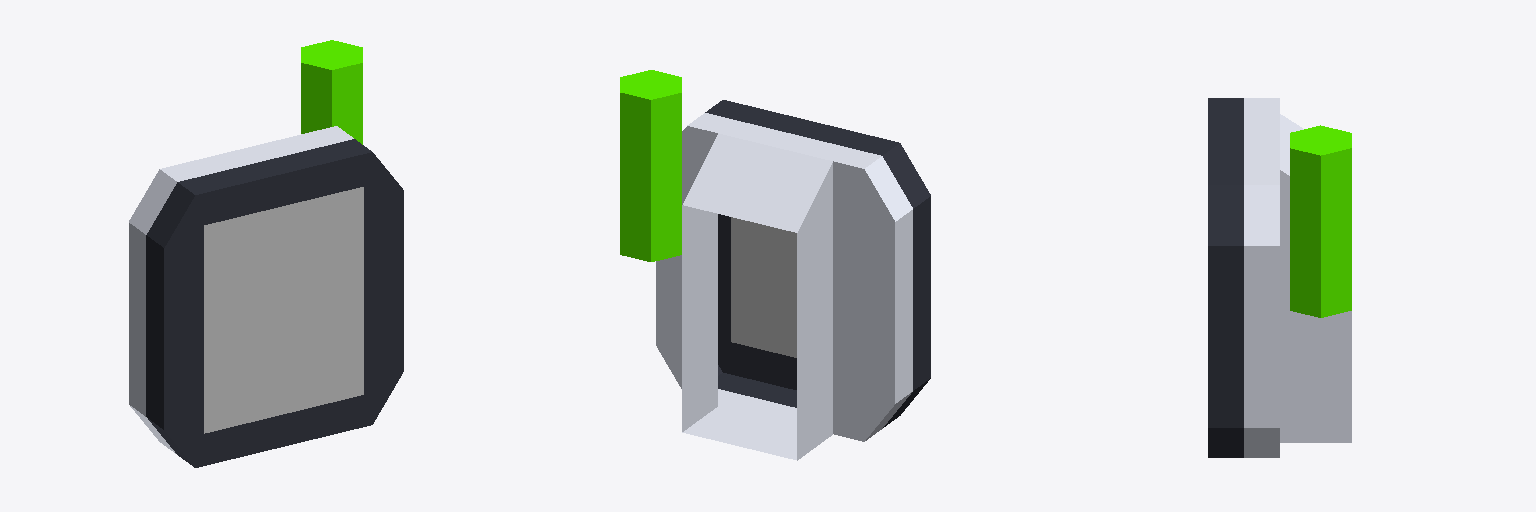
The model's file is cell_screen.obj.
The picture shows the model from 3 angles: view 1: azimuth 30°, elevation 25°; view 2: azimuth 150°, elevation 25°; view 3: azimuth 270°, elevation 25°; orthographic projection.
Visible parts, largest first — view 1: screen_ID20, socket_hexagon_ID7; view 2: screen_ID20, socket_hexagon_ID7; view 3: screen_ID20, socket_hexagon_ID7.
Part boxes in pixels (left/top/right/bottom): screen_ID20: left=129, top=126, right=403, bottom=467; socket_hexagon_ID7: left=301, top=40, right=362, bottom=144; screen_ID20: left=656, top=100, right=930, bottom=460; socket_hexagon_ID7: left=620, top=70, right=681, bottom=261; screen_ID20: left=1208, top=98, right=1351, bottom=457; socket_hexagon_ID7: left=1290, top=125, right=1351, bottom=317.
Bounding box in the file's own units: 0.1642 × 0.2 × 0.08.